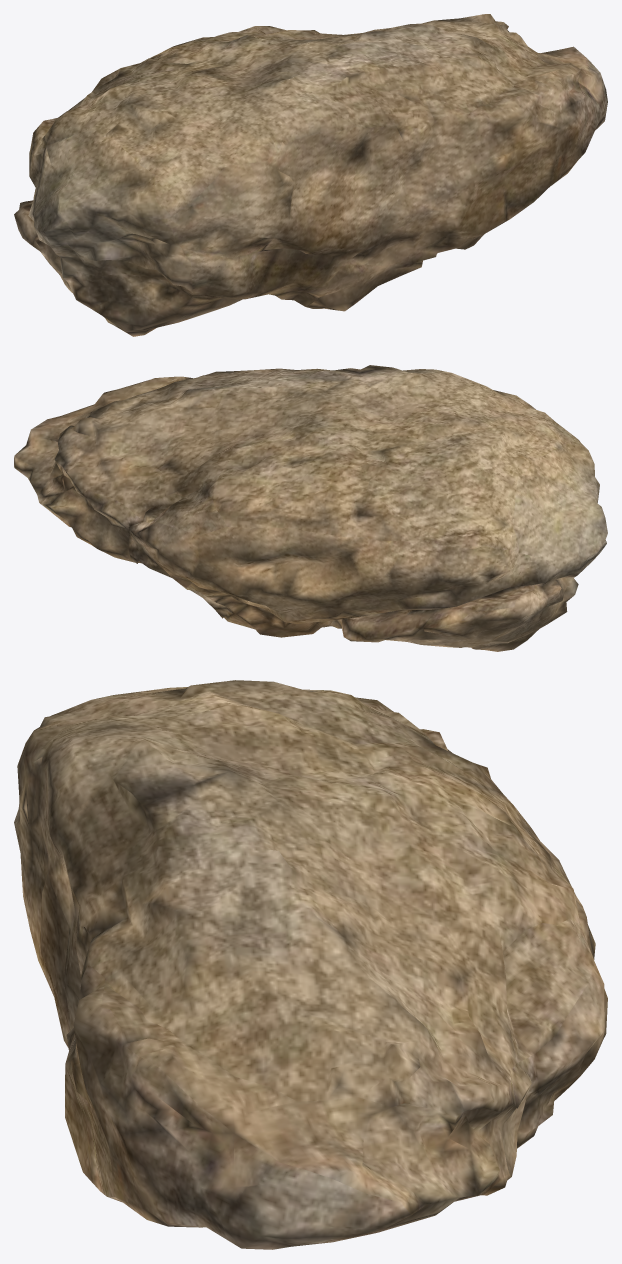
The model's file is namaqualand_boulder_05.glb.
3 renders of one model, top to bottom at view 1: azimuth 30°, elevation 25°; view 2: azimuth 150°, elevation 25°; view 3: azimuth 270°, elevation 25°, orthographic. The views are drawn at different scales.
Visible parts, largest first — view 1: namaqualand_boulder_05; view 2: namaqualand_boulder_05; view 3: namaqualand_boulder_05.
Boxes of the visible parts, bbox=[...] form: namaqualand_boulder_05: bbox=[14, 14, 607, 336]; namaqualand_boulder_05: bbox=[14, 365, 607, 651]; namaqualand_boulder_05: bbox=[14, 680, 607, 1249].
Size of the model in its own units: 1.36 by 0.5337 by 0.7462.
Materials: 1 (1 with a texture image).
